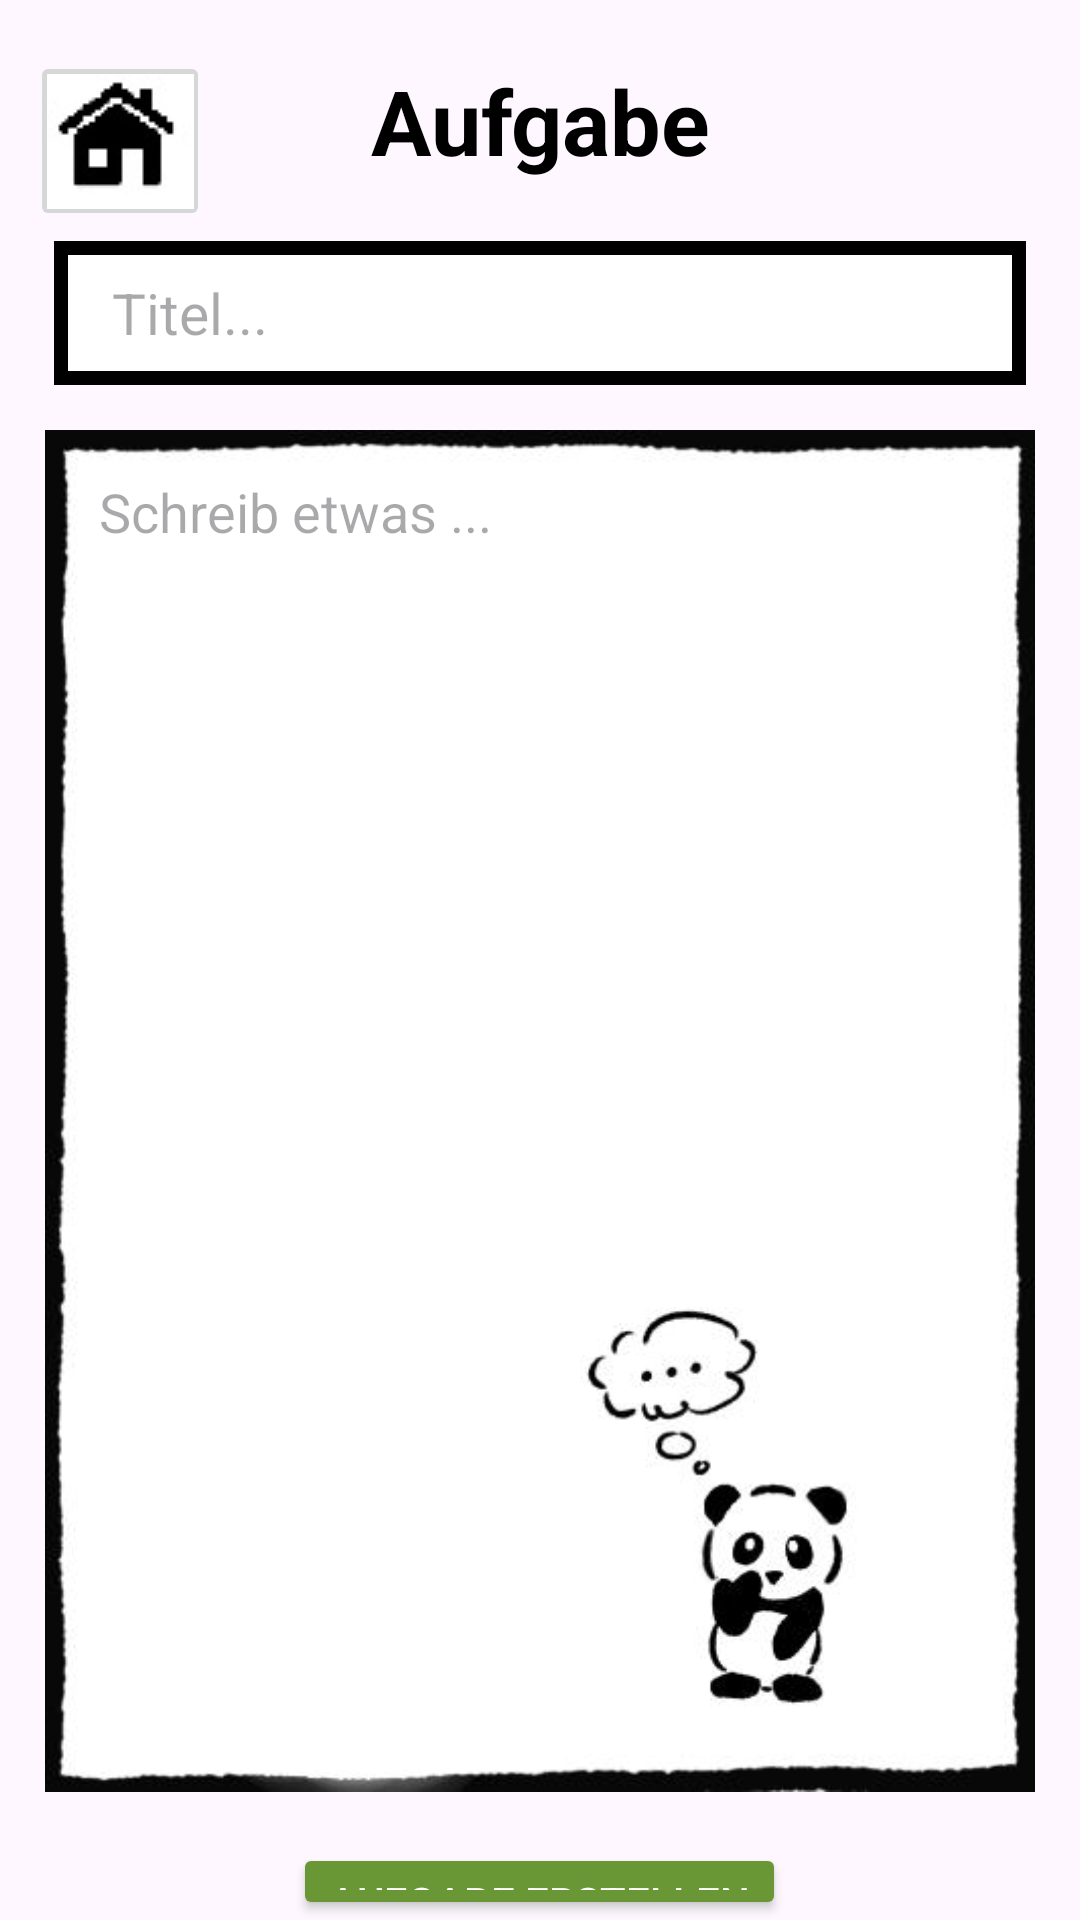

Icons on this 1080*1920 Android screen, each with the point to tap as point (x, y):
Zurück zum Home Menue: point (120, 141)
